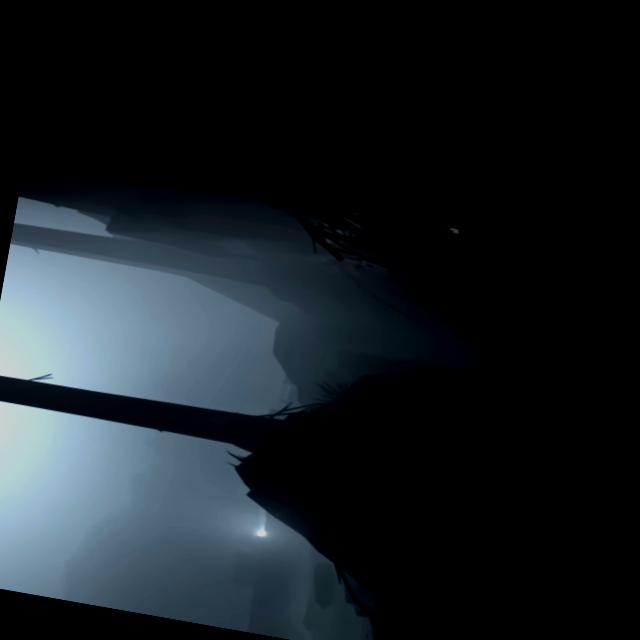boy: (438, 224, 480, 248)
